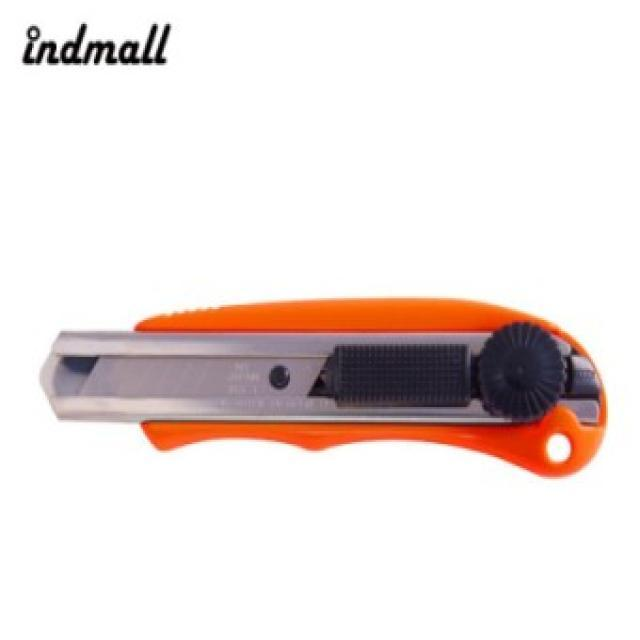cutter: (25, 282, 622, 484)
